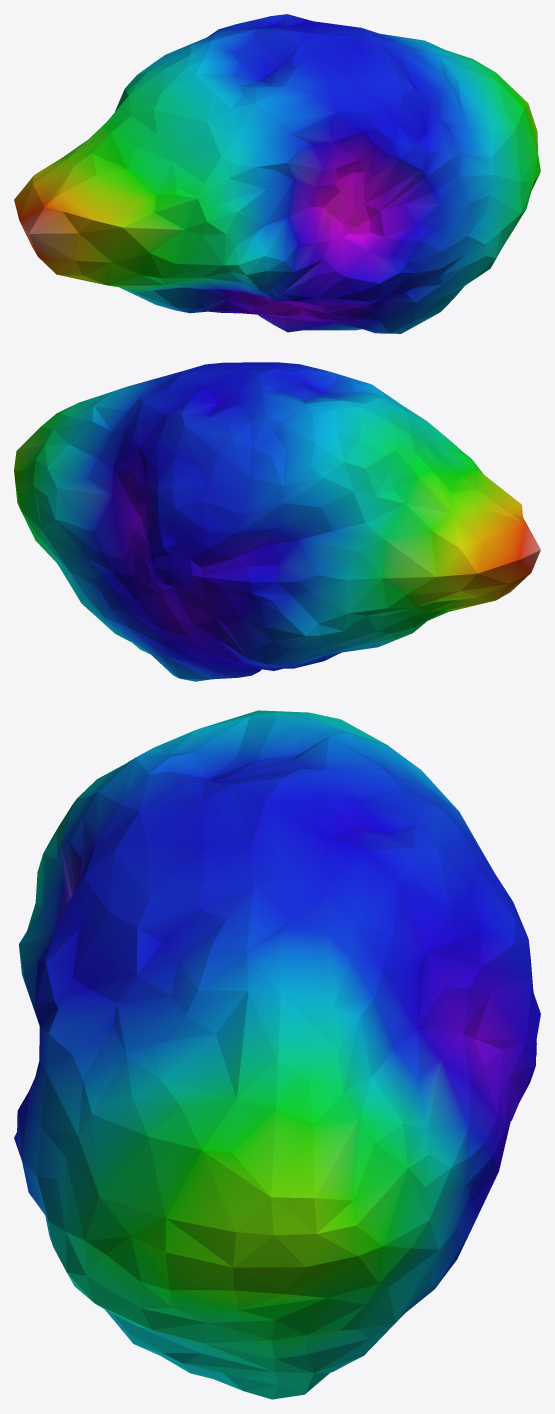
The model's file is Amalthea-Mi.fbx.
3 views of the same model, one above another, from view 1: azimuth 30°, elevation 25°; view 2: azimuth 150°, elevation 25°; view 3: azimuth 270°, elevation 25° (orthographic). The views are drawn at different scales.
Parts seen in each view (by area): view 1: Amalthea-Mi; view 2: Amalthea-Mi; view 3: Amalthea-Mi.
Boxes of the visible parts, x1=… form: Amalthea-Mi: x1=14, y1=14, x2=540, y2=333; Amalthea-Mi: x1=14, y1=362, x2=540, y2=681; Amalthea-Mi: x1=14, y1=710, x2=540, y2=1399.
Bounding box in the file's own units: 26735 × 15751 × 13876.
